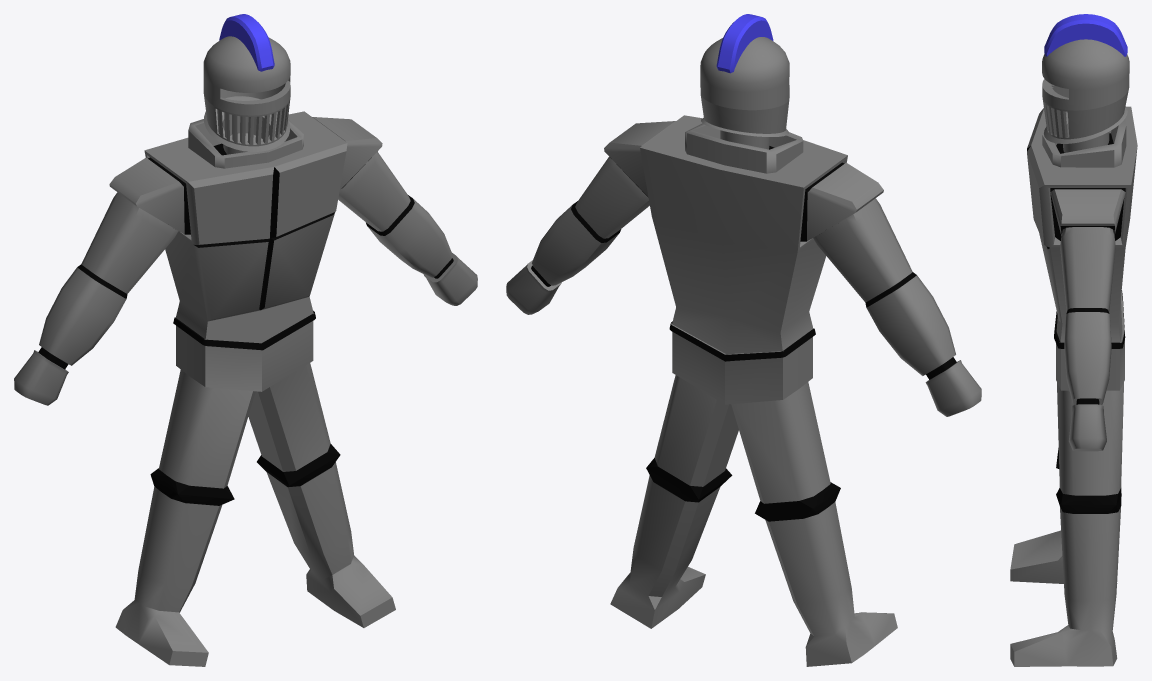
Rendered from Knight_Mesh_Only.fbx.
3 renders of one model, left to right at view 1: azimuth 30°, elevation 25°; view 2: azimuth 150°, elevation 25°; view 3: azimuth 270°, elevation 25°, orthographic. The views are drawn at different scales.
Visible parts, largest first — view 1: Armor; view 2: Armor; view 3: Armor.
Boxes of the visible parts, x1,y1,x2,y2 form: Armor: [14, 14, 477, 666]; Armor: [506, 14, 981, 666]; Armor: [1010, 14, 1137, 666].
Bounding box in the file's own units: 598 × 755 × 144.
